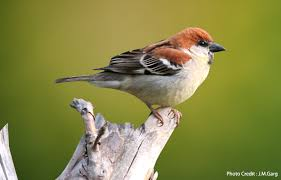hsparrow: (54, 24, 231, 127)
